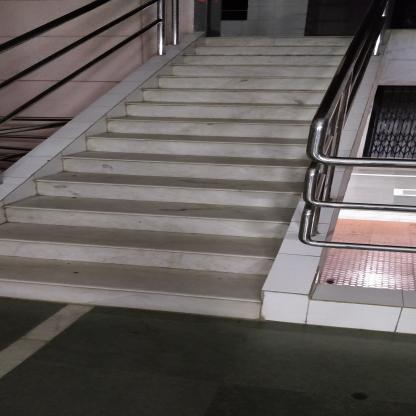stairs: (42, 179, 261, 319)
